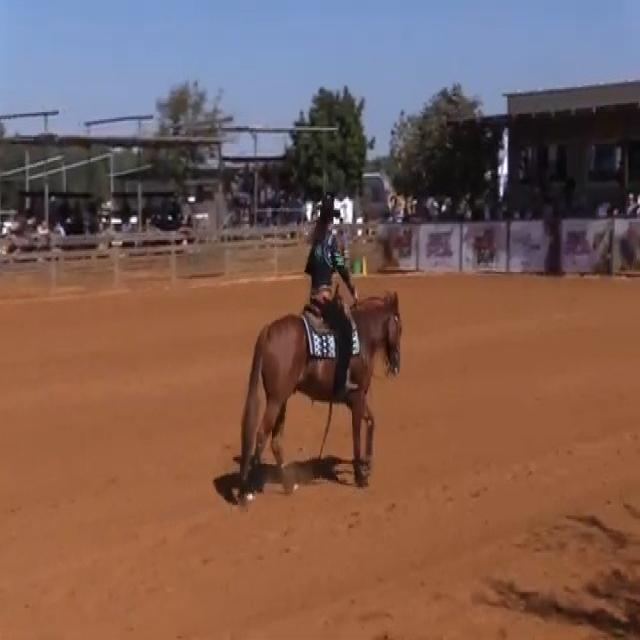horse: (235, 286, 403, 492)
